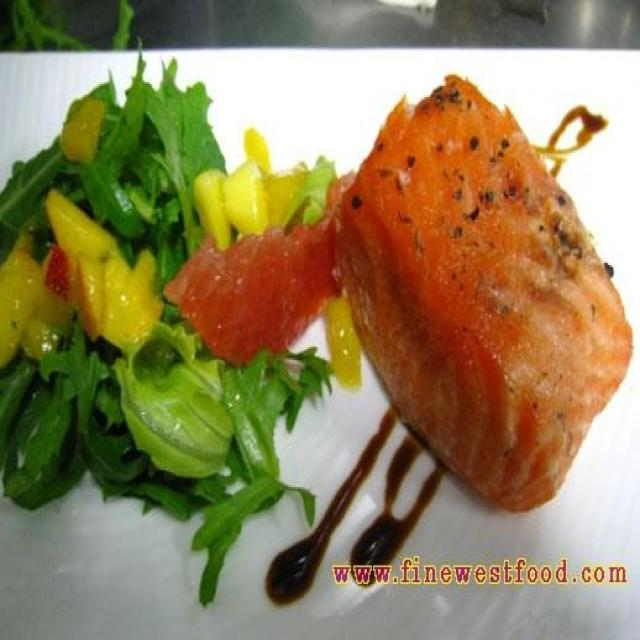熟制海鲜: (4, 34, 634, 623)
